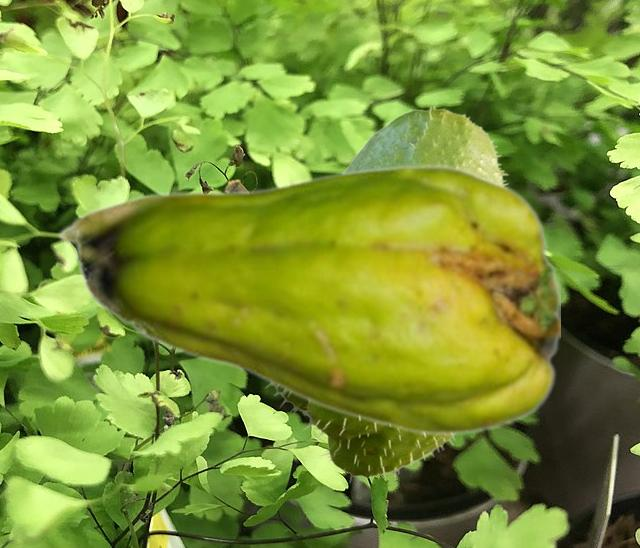sayote: (56, 163, 559, 436), (263, 106, 511, 482)
